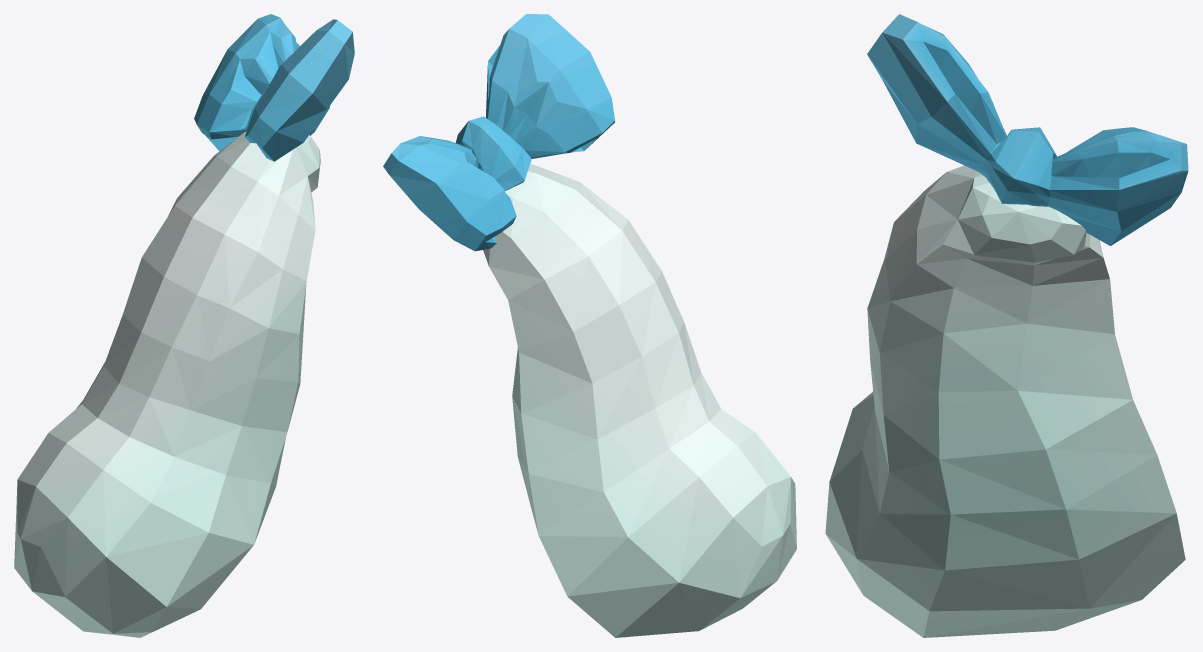
The model's file is CharSkyKid_Horn_PastryEars.glb.
The picture shows the model from 3 angles, left to right: view 1: azimuth 30°, elevation 25°; view 2: azimuth 150°, elevation 25°; view 3: azimuth 270°, elevation 25°; orthographic projection. The views are drawn at different scales.
Parts seen in each view (by area): view 1: CharSkyKid_Horn_PastryEars; view 2: CharSkyKid_Horn_PastryEars; view 3: CharSkyKid_Horn_PastryEars.
Part boxes in pixels (box(x1,y1,x2,y2)): CharSkyKid_Horn_PastryEars: box(14, 14, 354, 637); CharSkyKid_Horn_PastryEars: box(383, 14, 796, 637); CharSkyKid_Horn_PastryEars: box(825, 14, 1188, 637).
Bounding box in the file's own units: 2.31 × 3.66 × 1.67.
1 material, 1 textured.
